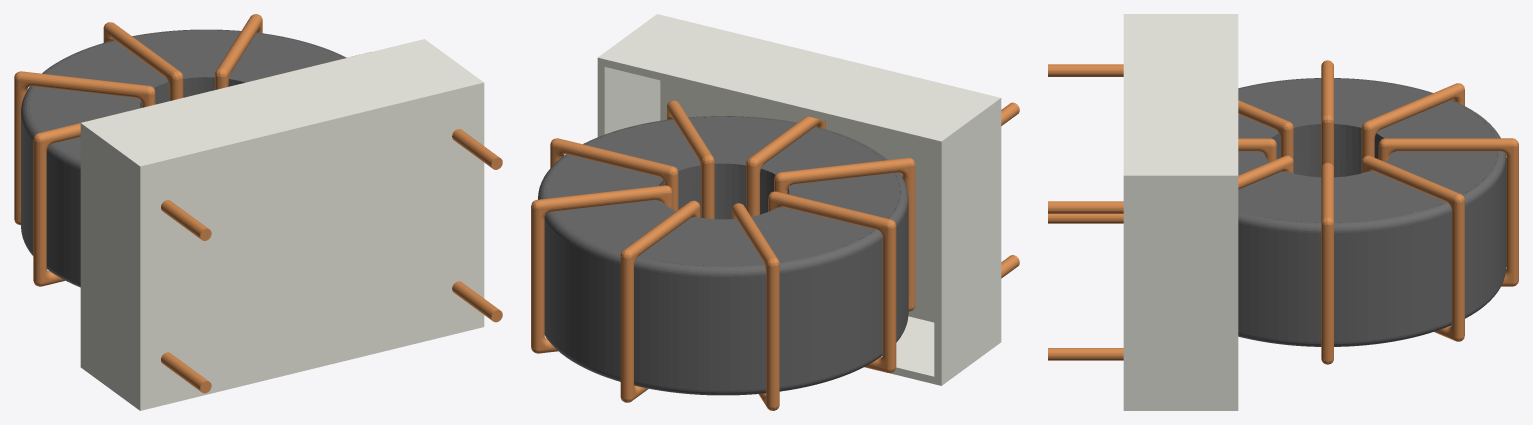
File: L_CommonMode_Toroid_Vertical_L24.0mm_W16.3mm_Px10.16mm_Py20.32mm_Murata_5200.glb
3 views of the same model, side by side, from view 1: azimuth 30°, elevation 25°; view 2: azimuth 150°, elevation 25°; view 3: azimuth 270°, elevation 25° (orthographic). The views are drawn at different scales.
Parts seen in each view (by area): view 1: Shape_IndexedFaceSet.015, Shape_IndexedFaceSet.001, Shape_IndexedFaceSet.002, Shape_IndexedFaceSet.014, Shape_IndexedFaceSet.201, Shape_IndexedFaceSet.161, Shape_IndexedFaceSet.177, Shape_IndexedFaceSet.068, Shape_IndexedFaceSet.169, Shape_IndexedFaceSet.009, Shape_IndexedFaceSet.208, Shape_IndexedFaceSet.122 (+13 smaller); view 2: Shape_IndexedFaceSet.001, Shape_IndexedFaceSet.207, Shape_IndexedFaceSet.002, Shape_IndexedFaceSet.208, Shape_IndexedFaceSet.206, Shape_IndexedFaceSet.013, Shape_IndexedFaceSet, Shape_IndexedFaceSet.122, Shape_IndexedFaceSet.169, Shape_IndexedFaceSet.177, Shape_IndexedFaceSet.161, Shape_IndexedFaceSet.149 (+33 smaller); view 3: Shape_IndexedFaceSet.004, Shape_IndexedFaceSet.001, Shape_IndexedFaceSet.205, Shape_IndexedFaceSet.204, Shape_IndexedFaceSet.206, Shape_IndexedFaceSet.068, Shape_IndexedFaceSet.078, Shape_IndexedFaceSet.122, Shape_IndexedFaceSet.161, Shape_IndexedFaceSet.177, Shape_IndexedFaceSet.133, Shape_IndexedFaceSet.169 (+22 smaller).
Part boxes in pixels (x1,y1,x2,y2): Shape_IndexedFaceSet.015: (147,92,476,401); Shape_IndexedFaceSet.001: (81,39,479,163); Shape_IndexedFaceSet.002: (80,123,135,407); Shape_IndexedFaceSet.014: (140,82,484,410); Shape_IndexedFaceSet.201: (46,152,80,283); Shape_IndexedFaceSet.161: (133,30,240,78); Shape_IndexedFaceSet.177: (29,86,140,131); Shape_IndexedFaceSet.068: (229,33,343,82); Shape_IndexedFaceSet.169: (46,41,168,87); Shape_IndexedFaceSet.009: (136,79,483,166); Shape_IndexedFaceSet.208: (21,116,33,253); Shape_IndexedFaceSet.122: (21,29,346,169); Shape_IndexedFaceSet.001: (598,17,996,141); Shape_IndexedFaceSet.207: (634,267,766,390); Shape_IndexedFaceSet.002: (941,101,996,385); Shape_IndexedFaceSet.208: (779,239,882,386); Shape_IndexedFaceSet.206: (544,220,620,377); Shape_IndexedFaceSet.013: (660,80,934,322); Shape_IndexedFaceSet: (597,57,941,385); Shape_IndexedFaceSet.122: (538,116,908,277); Shape_IndexedFaceSet.169: (637,217,764,266); Shape_IndexedFaceSet.177: (751,207,874,262); Shape_IndexedFaceSet.161: (553,200,676,252); Shape_IndexedFaceSet.149: (689,116,796,165); Shape_IndexedFaceSet.004: (1131,175,1238,410); Shape_IndexedFaceSet.001: (1131,14,1238,175); Shape_IndexedFaceSet.205: (1334,212,1451,342); Shape_IndexedFaceSet.204: (1238,223,1321,342); Shape_IndexedFaceSet.206: (1465,158,1506,314); Shape_IndexedFaceSet.068: (1334,171,1445,222); Shape_IndexedFaceSet.078: (1238,171,1321,222); Shape_IndexedFaceSet.122: (1238,78,1505,233); Shape_IndexedFaceSet.161: (1385,151,1497,194); Shape_IndexedFaceSet.177: (1334,78,1431,127); Shape_IndexedFaceSet.133: (1238,78,1321,127); Shape_IndexedFaceSet.169: (1376,100,1494,138).
Size of the model in its own units: 9.45 by 6.42 by 11.63.
